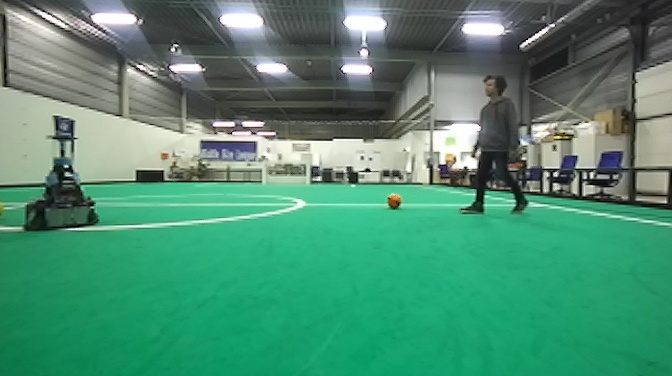ball: (383, 189, 405, 213)
goal: (261, 161, 311, 190)
goalpost: (260, 160, 267, 189), (304, 163, 310, 189)
human: (454, 70, 535, 220)
robot: (19, 111, 100, 234)
